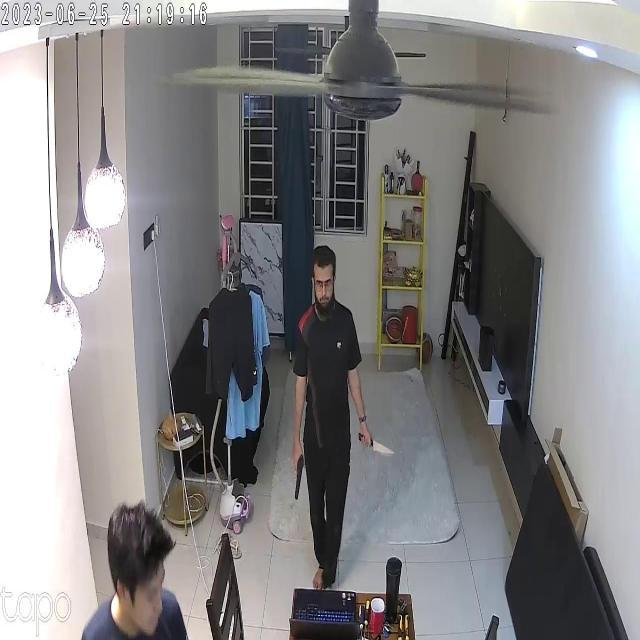Gun: (286, 442, 316, 506)
Knife: (359, 429, 397, 459)
